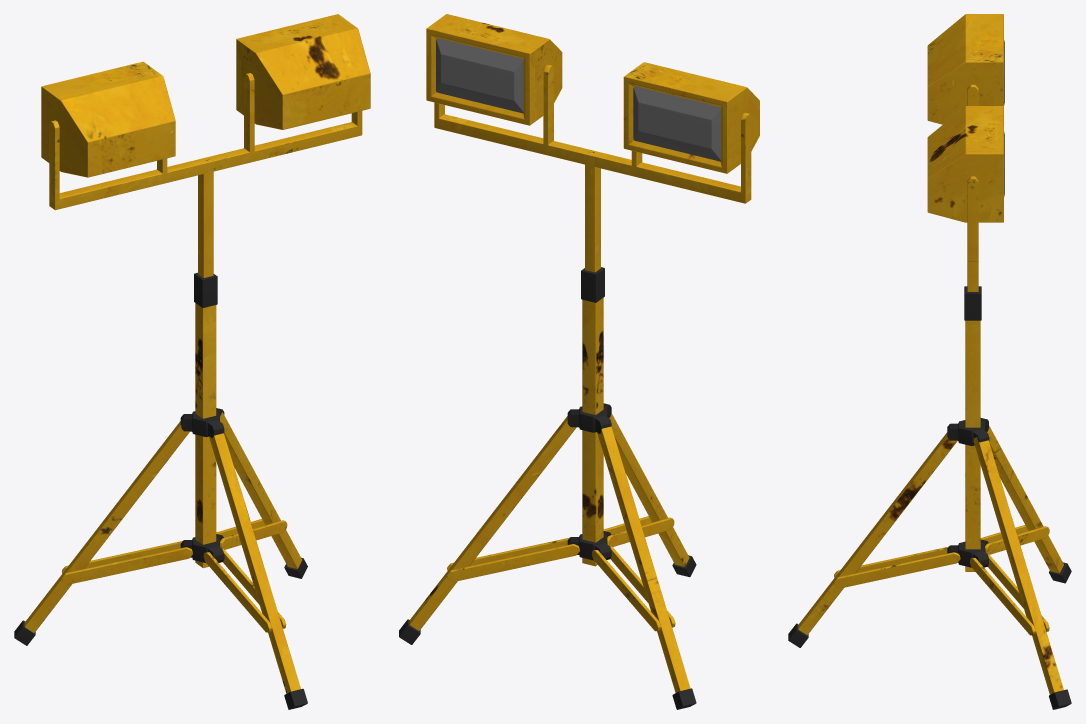
Rendered from Construction_Floor_TallTripod_2Heads.fbx.
The picture shows the model from 3 angles, left to right: view 1: azimuth 30°, elevation 25°; view 2: azimuth 150°, elevation 25°; view 3: azimuth 270°, elevation 25°; orthographic projection. The views are drawn at different scales.
Visible parts, largest first — view 1: Construction_Floor_TallTripod_2Heads_LOD0; view 2: Construction_Floor_TallTripod_2Heads_LOD0; view 3: Construction_Floor_TallTripod_2Heads_LOD0.
Boxes of the visible parts, x1,y1,x2,y2 form: Construction_Floor_TallTripod_2Heads_LOD0: (14,14,370,709); Construction_Floor_TallTripod_2Heads_LOD0: (399,14,759,709); Construction_Floor_TallTripod_2Heads_LOD0: (788,14,1071,709).
Size of what is drawn, in the model's own units: 90 by 162 by 74.38.
Materials: 4 (1 with a texture image).
